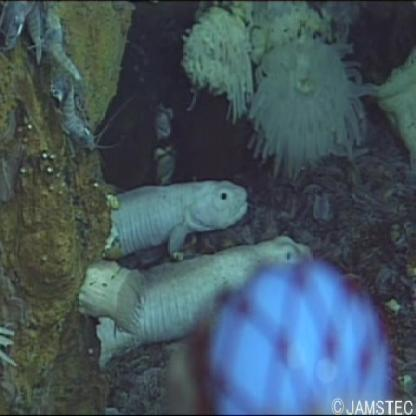Bio: (74, 174, 316, 366), (244, 26, 386, 182)
